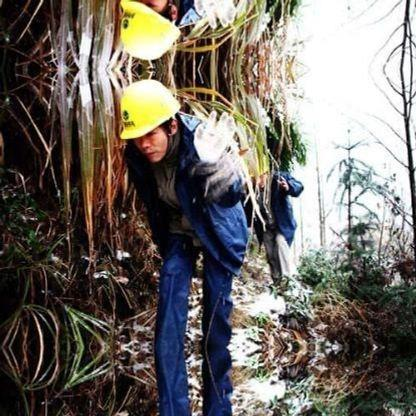helmet: (120, 84, 183, 138)
